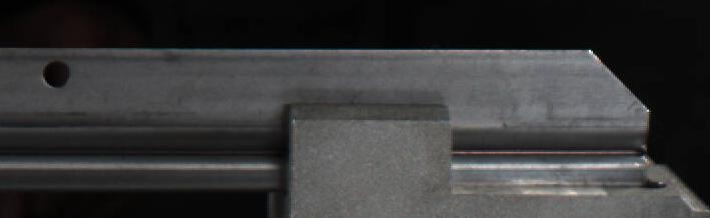cut: (463, 42, 663, 193)
holes: (42, 57, 71, 86)
